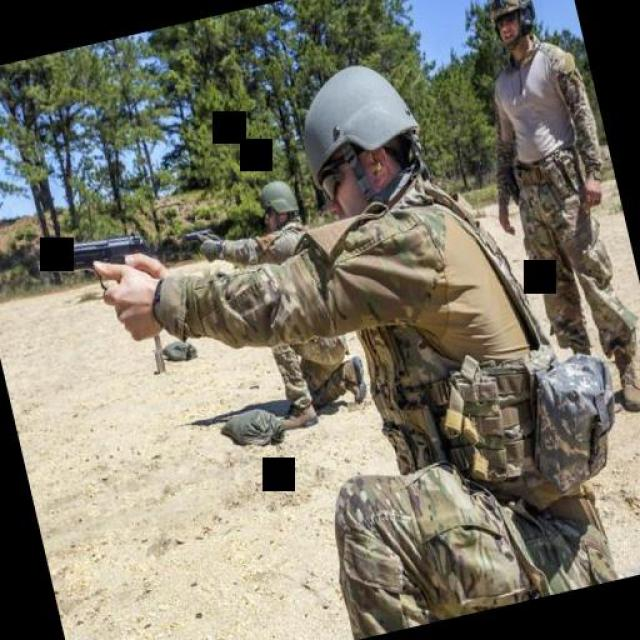gun: (34, 206, 155, 302), (174, 218, 214, 250)
